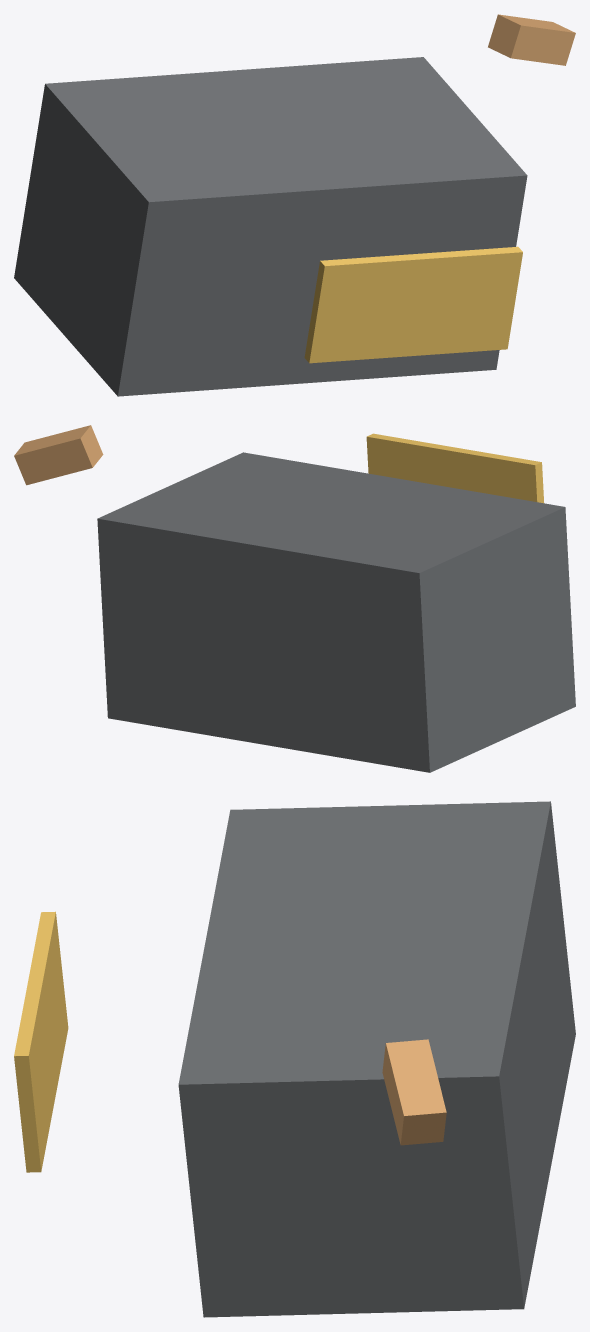
Rendered from Debris_BatteryBox.fbx.
3 views of the same model, one above another, from view 1: azimuth 30°, elevation 25°; view 2: azimuth 150°, elevation 25°; view 3: azimuth 270°, elevation 25° (orthographic). The views are drawn at different scales.
Visible parts, largest first — view 1: battery_case, orange_label, bent_terminal; view 2: battery_case, orange_label, bent_terminal; view 3: battery_case, orange_label, bent_terminal.
Boxes of the visible parts, x1,y1,x2,y2 form: battery_case: [14, 57, 527, 396]; orange_label: [304, 246, 522, 363]; bent_terminal: [488, 14, 575, 65]; battery_case: [97, 452, 575, 772]; orange_label: [366, 433, 543, 503]; bent_terminal: [14, 425, 103, 485]; battery_case: [178, 801, 575, 1317]; orange_label: [14, 911, 68, 1172]; bent_terminal: [382, 1039, 446, 1145].
Bounding box in the file's own units: 60.01 × 29.6 × 45.16.
